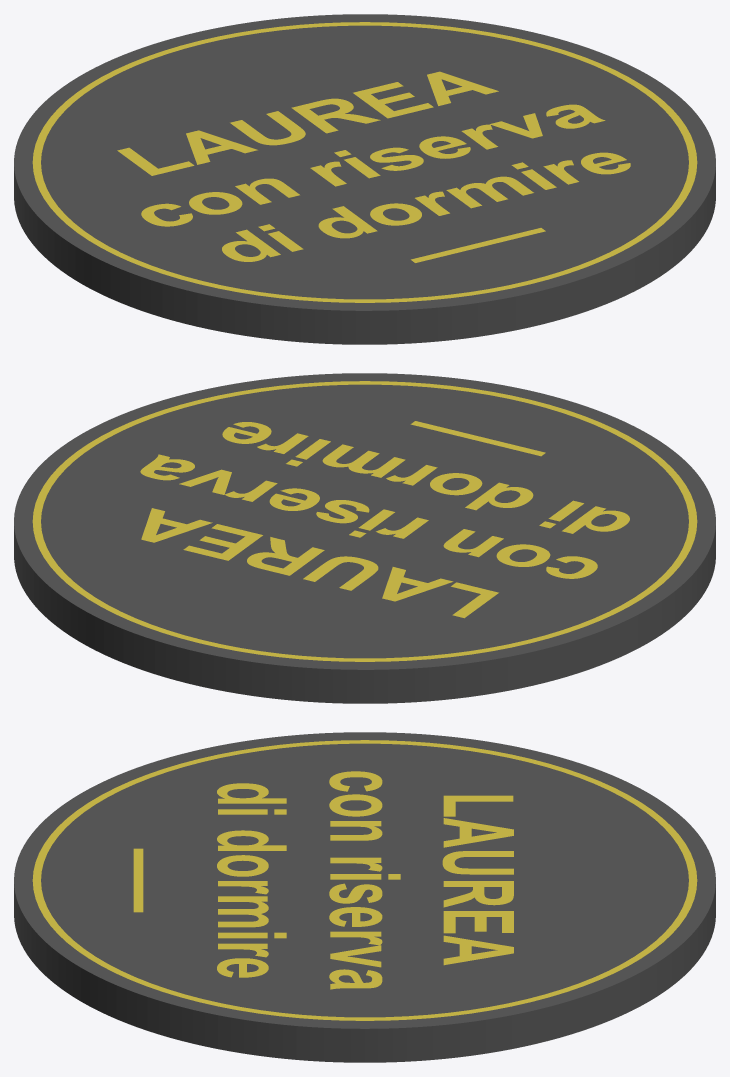
The model's file is sottobicchiere-laurea-con-riserva.glb.
3 views of the same model, one above another, from view 1: azimuth 30°, elevation 25°; view 2: azimuth 150°, elevation 25°; view 3: azimuth 270°, elevation 25° (orthographic).
Parts seen in each view (by area): view 1: coaster_base, coaster_ink; view 2: coaster_base, coaster_ink; view 3: coaster_base, coaster_ink.
Part boxes in pixels (x1=…): coaster_base: x1=14, y1=14, x2=715, y2=344; coaster_ink: x1=32, y1=22, x2=697, y2=302; coaster_base: x1=14, y1=373, x2=715, y2=703; coaster_ink: x1=32, y1=381, x2=697, y2=661; coaster_base: x1=14, y1=732, x2=715, y2=1062; coaster_ink: x1=32, y1=740, x2=697, y2=1020.
Size of the model in its own units: 0.075 by 0.004 by 0.075.
